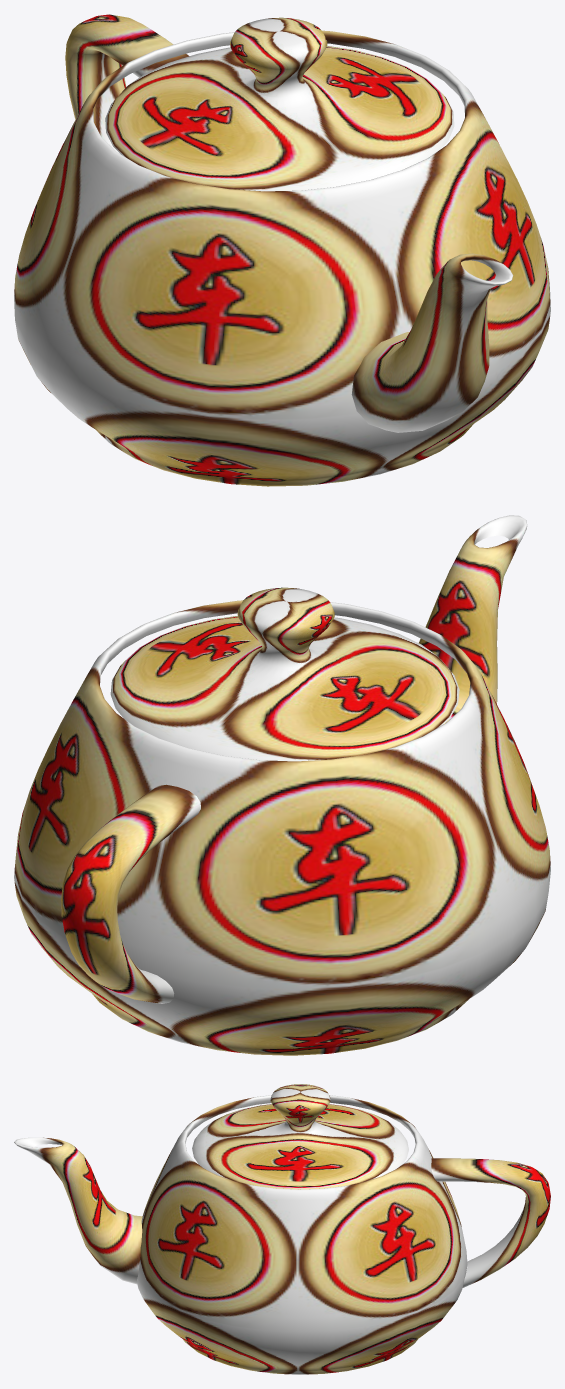
File: S_teapot.gltf
3 renders of one model, top to bottom at view 1: azimuth 30°, elevation 25°; view 2: azimuth 150°, elevation 25°; view 3: azimuth 270°, elevation 25°, orthographic. The views are drawn at different scales.
Parts seen in each view (by area): view 1: S_teapot; view 2: S_teapot; view 3: S_teapot.
Part boxes in pixels (x1,y1,x2,y2): S_teapot: [14, 14, 550, 486]; S_teapot: [14, 515, 550, 1055]; S_teapot: [14, 1084, 550, 1374].
Bounding box in the file's own units: 0.2343 × 0.1847 × 0.3769.
Materials: 1 (1 with a texture image).
